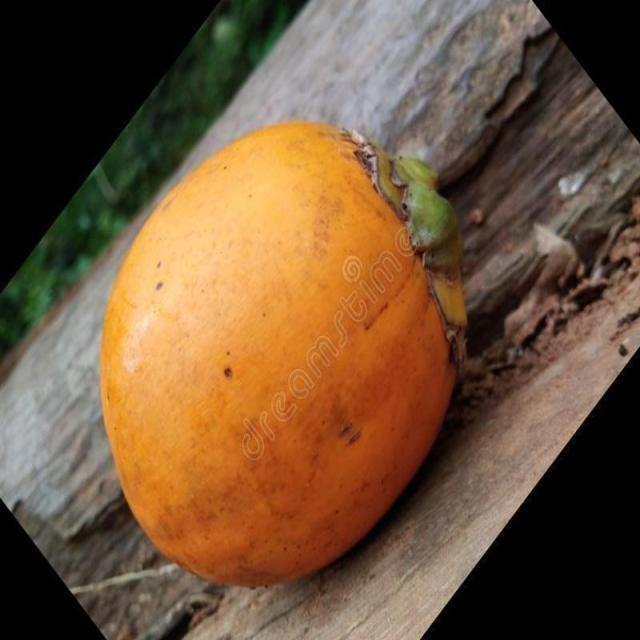good: (98, 122, 462, 590)
